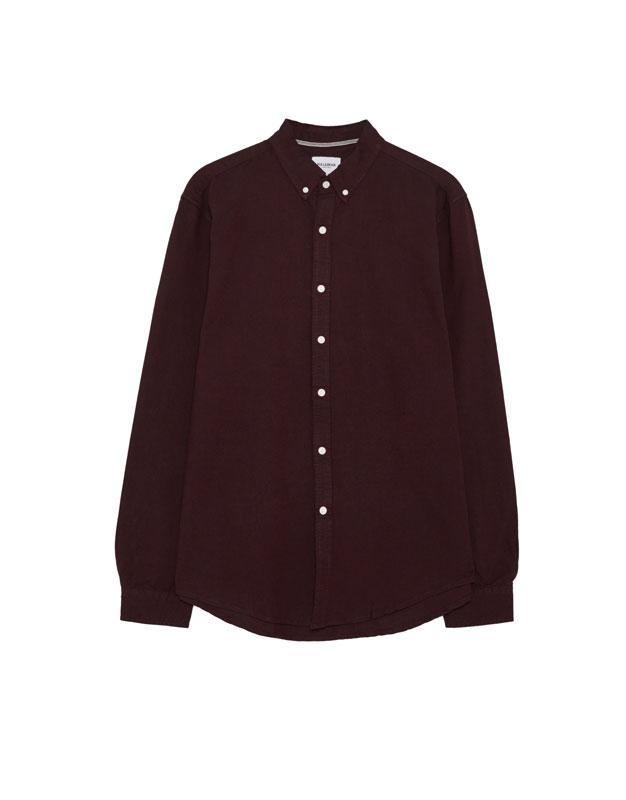teeshirt: (103, 117, 535, 644)
